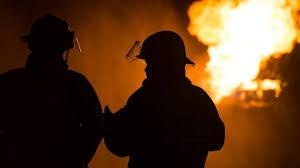fire: (187, 0, 300, 95)
